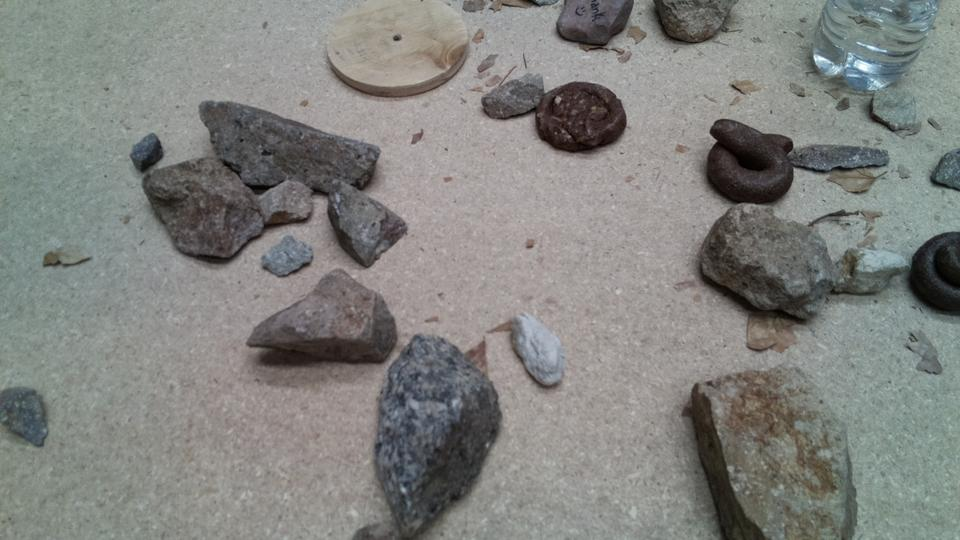poop: (705, 115, 797, 207), (531, 80, 630, 157), (908, 226, 960, 319)
